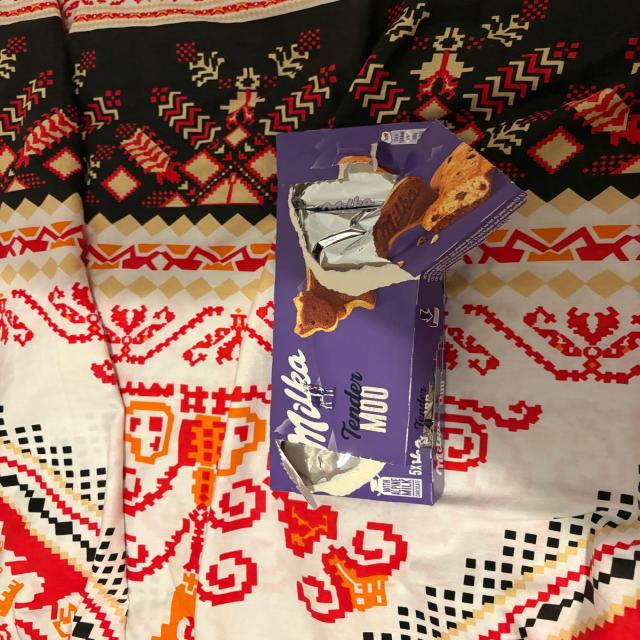damaged_package: (269, 120, 528, 507)
